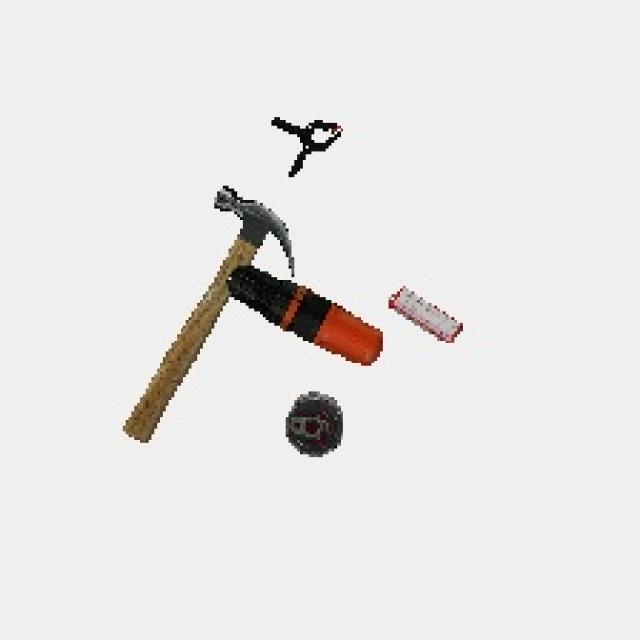GelatinBox: (387, 283, 473, 350)
MediumClamp: (266, 106, 353, 183)
TomatoSoupCan: (270, 386, 357, 464)
